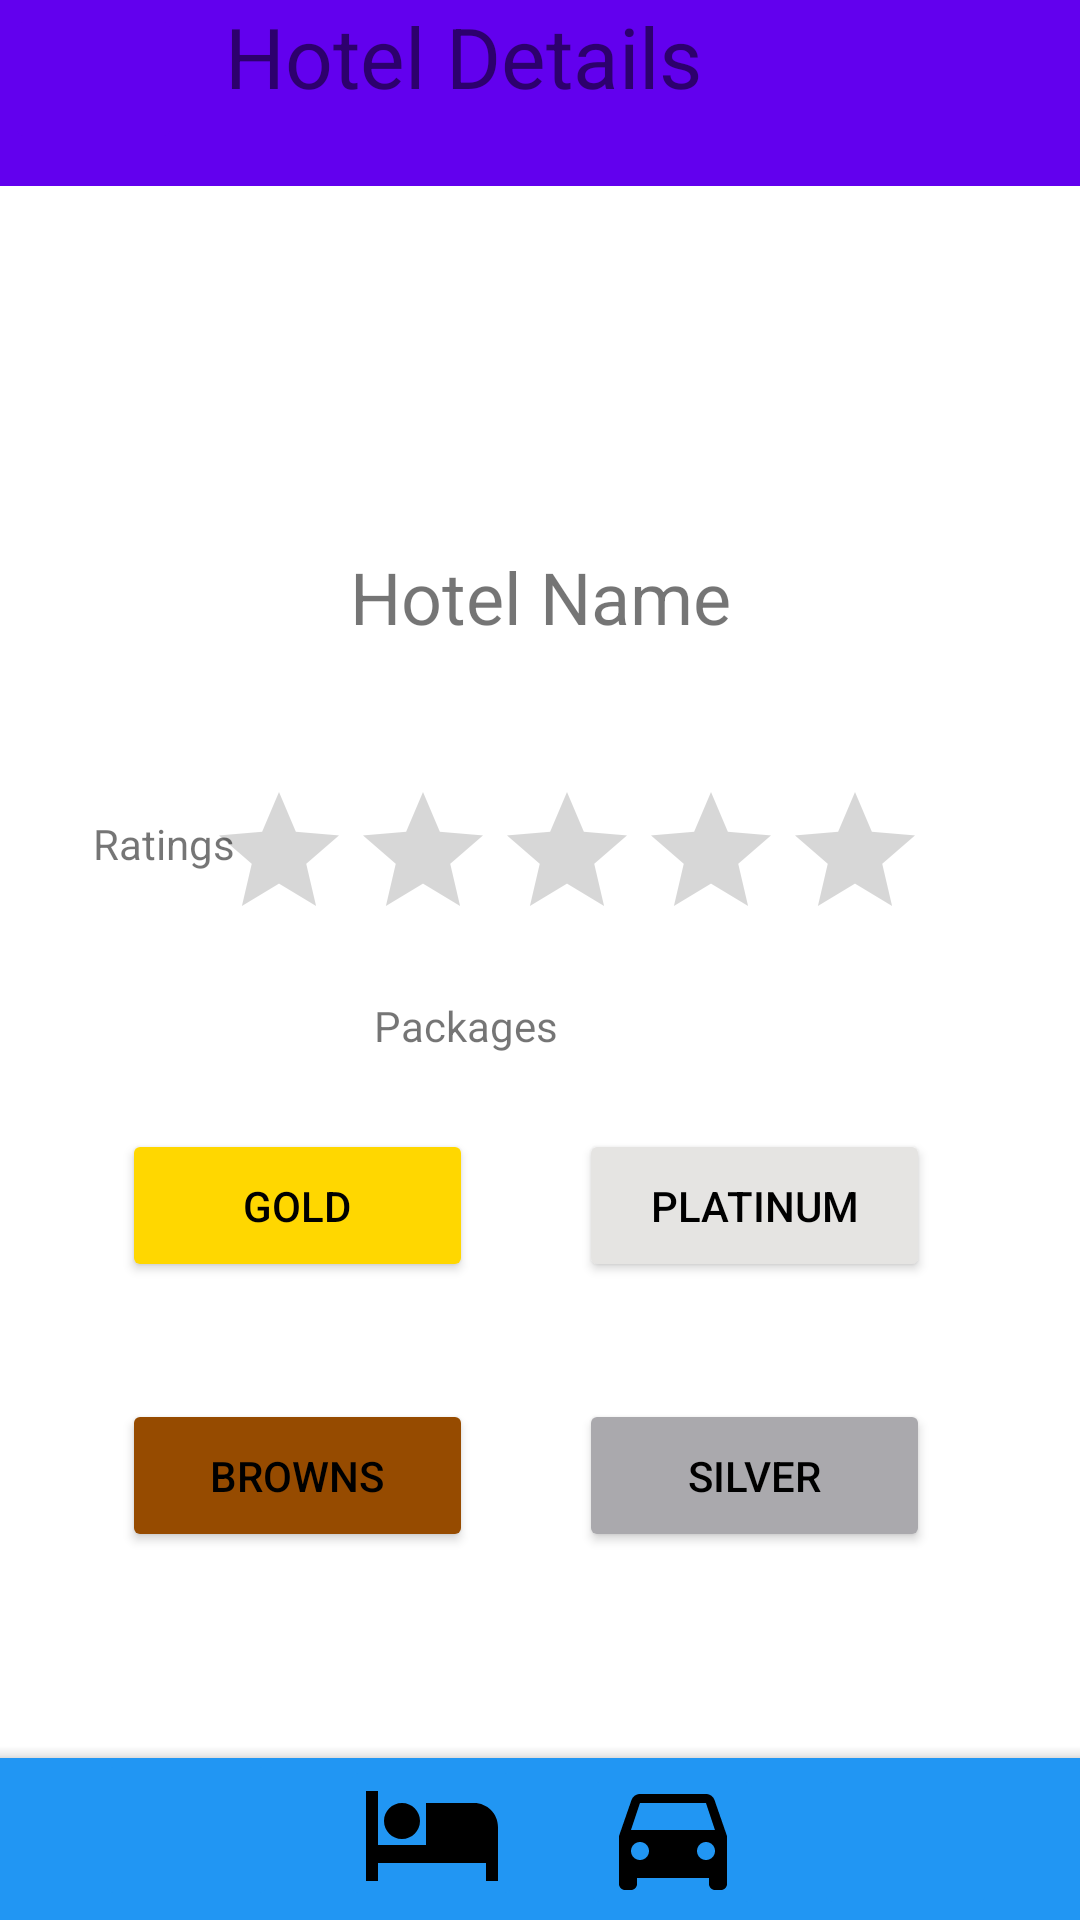

Icon click points for this 1080 × 1920 phone screenshot, format point (x, y):
vehicle: point (673, 1842)
